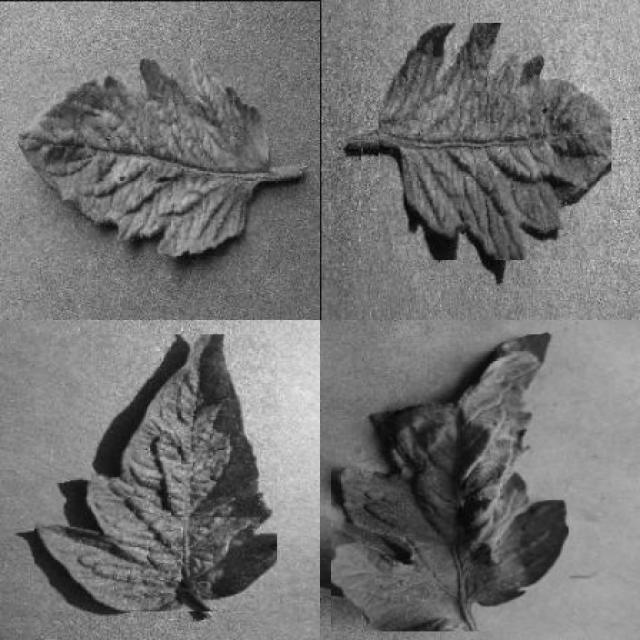Early Blight: (330, 334, 569, 632)
Mosaic Virus: (378, 23, 612, 260), (18, 58, 268, 255)
Spider Mites: (35, 335, 278, 612)
